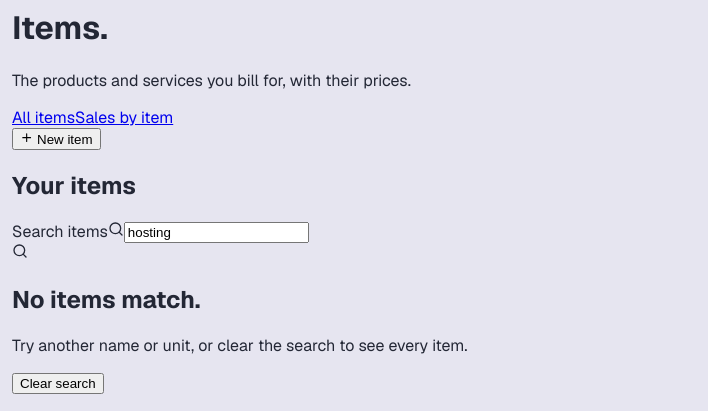
Test case: keeps focus when search hides
Later steps or results of the test are not shown.
Click the button "Clear search". click: {"x": 58, "y": 383}
box: [12,373,104,394]
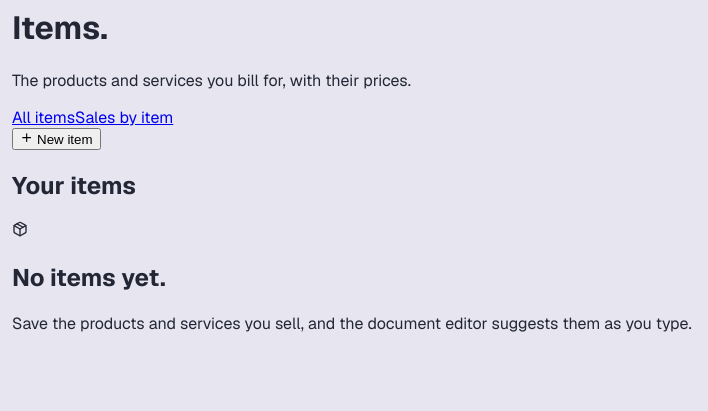
Expected: the search field is gone
Expected: the text "No items yet." is shown, [12,262,166,293]
